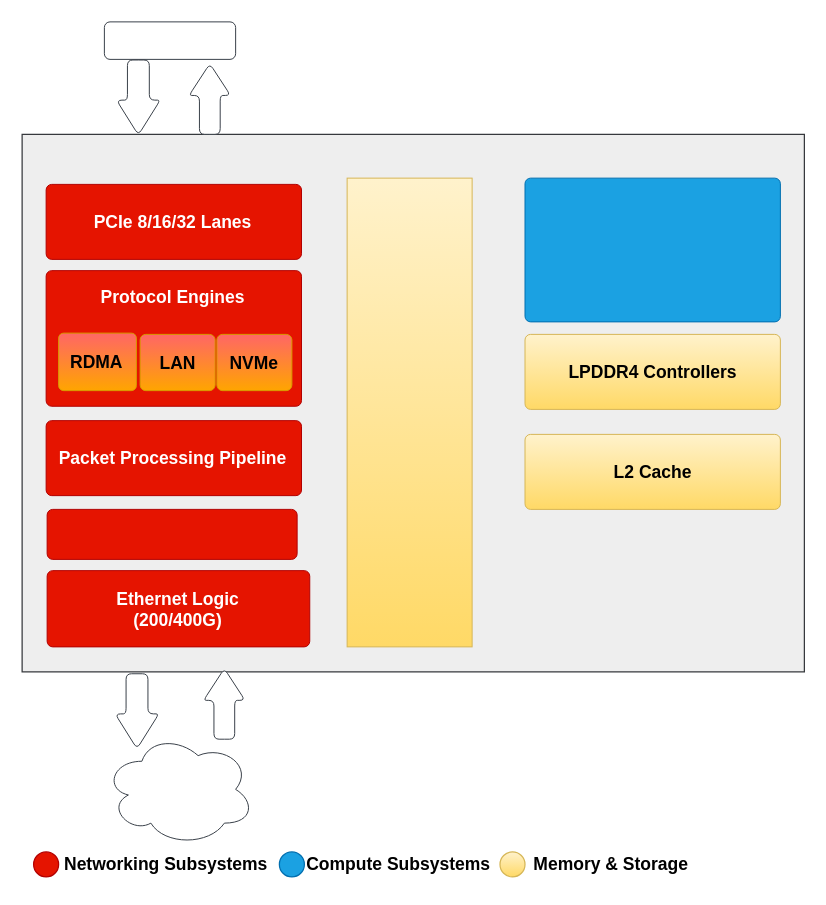
Image size: 826x905. Some labels were removed from this diagram. Each missing label, with the centre of its shape:
Compute Core Complex (ARM): point 652,249
Host: point 169,40
IPSec/TLS Encryption Engine: point 171,533
L3 Cache (Last Level Cache): point 409,412
Network: point 178,789
